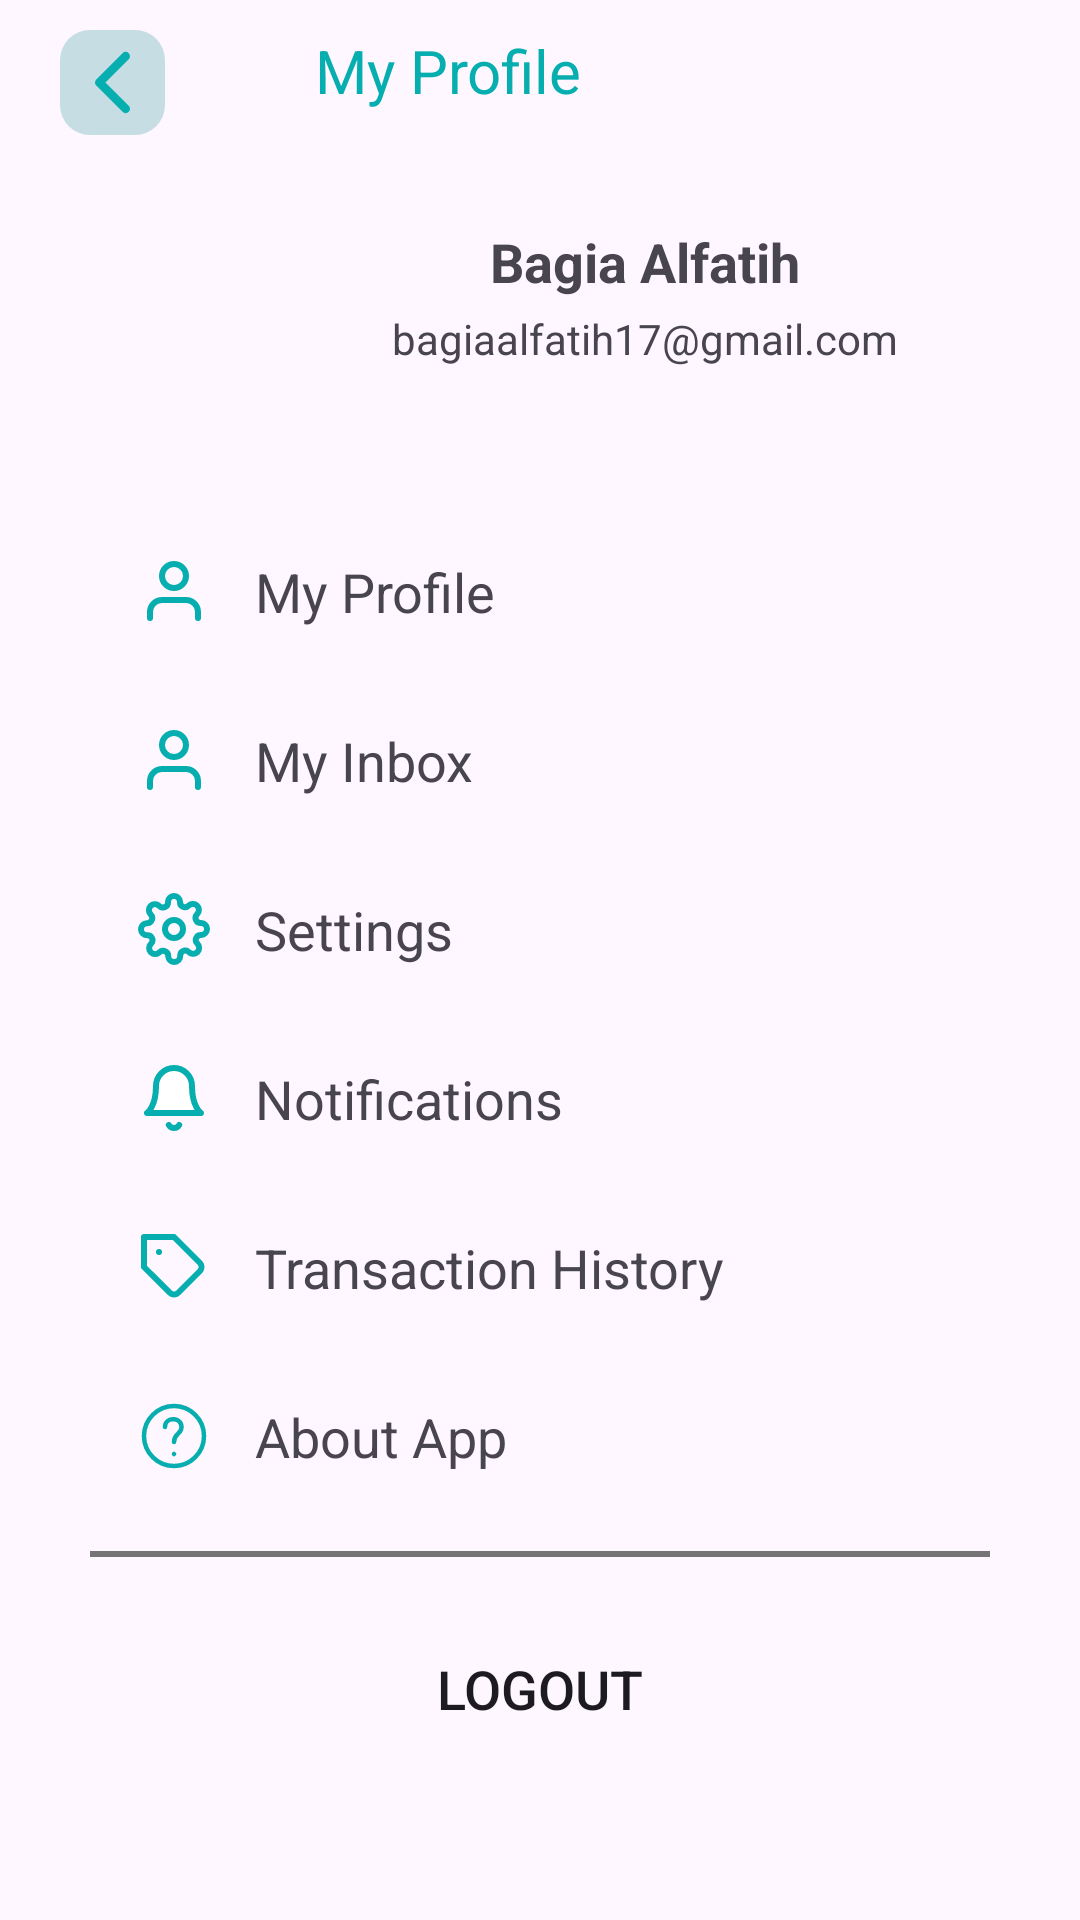

Icons on this 1080px×1920px Android screen, each with the point to tap as point (x, y):
chevron left: point (112, 82)
